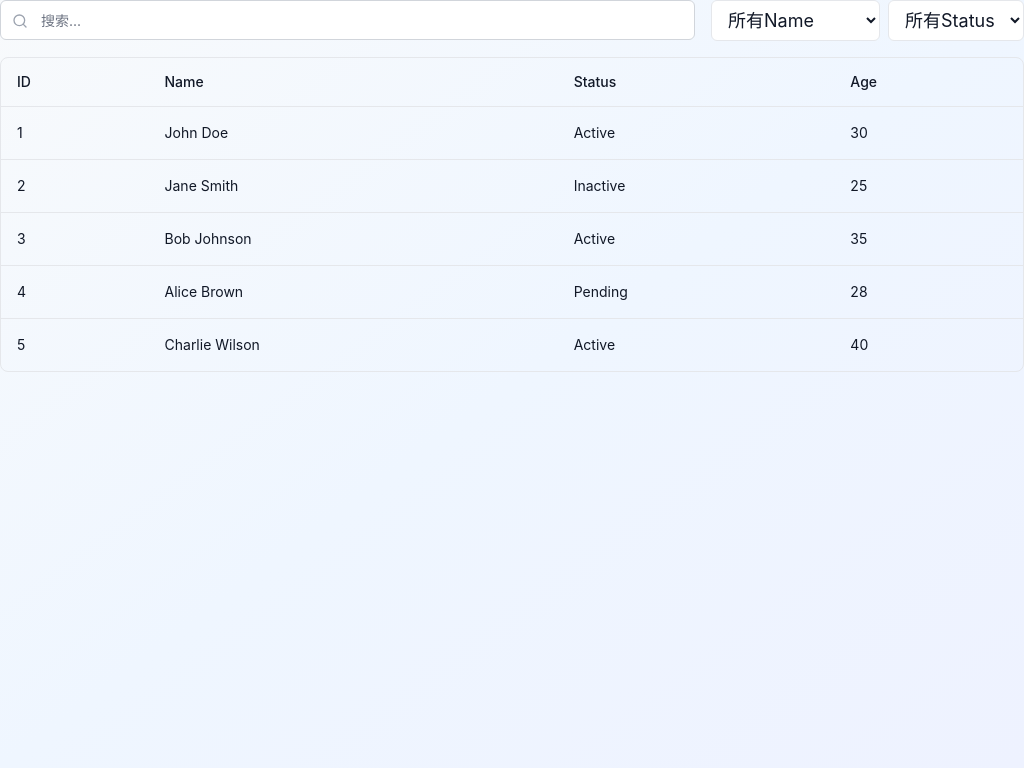
Test: DataTable Component › Search Functionality › should filter data based on search query
Type "John" into the field with placeholder "搜索..." at (348, 20), box [0,0,695,40]
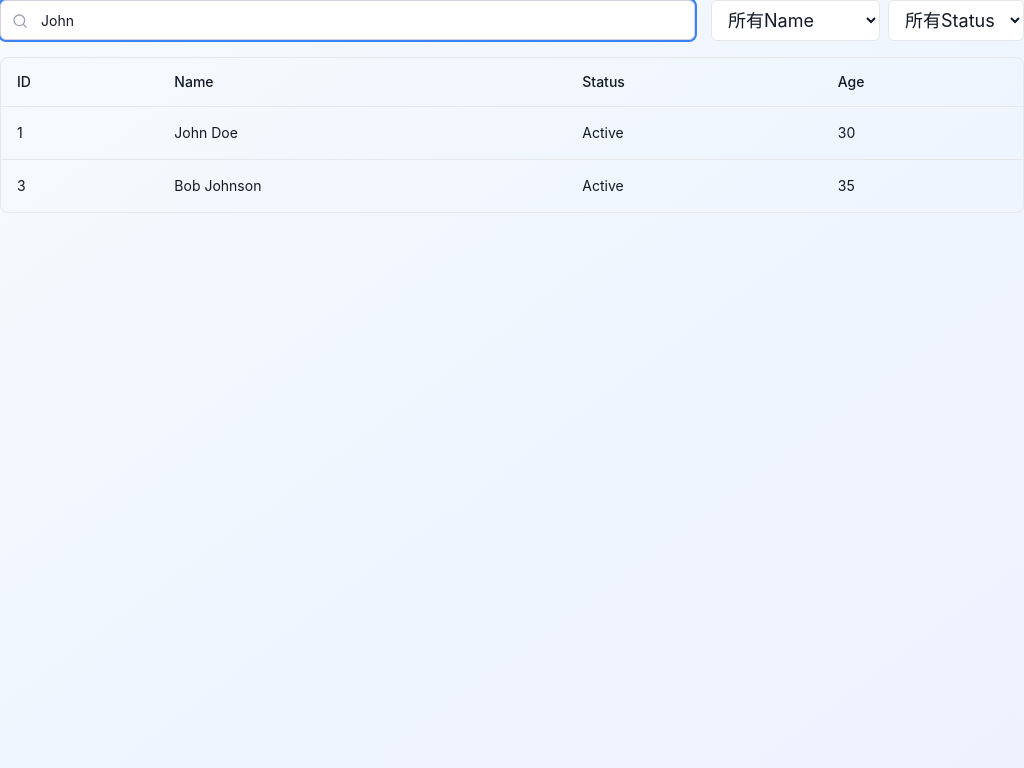
Expected: the text "John Doe" is shown, [158,106,566,159]
Result: the text "Jane Smith" is gone
